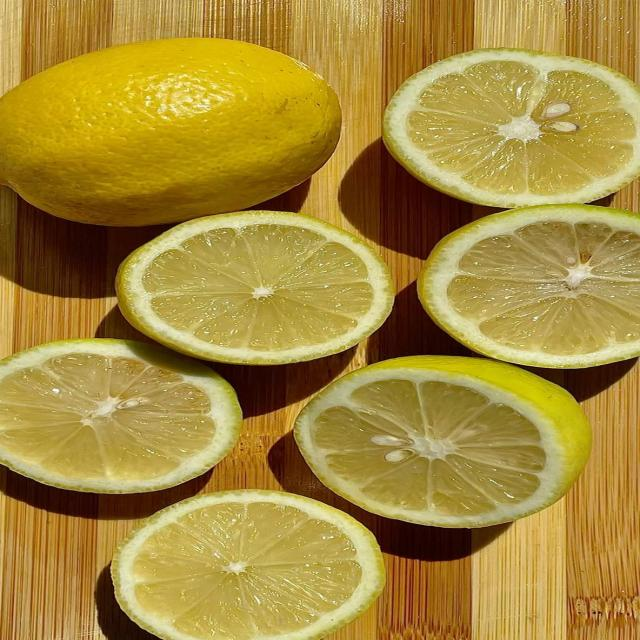lemon: (0, 38, 340, 225), (295, 356, 591, 526), (117, 212, 393, 364), (112, 490, 384, 639), (385, 49, 639, 207), (0, 340, 240, 493), (419, 205, 639, 367)
